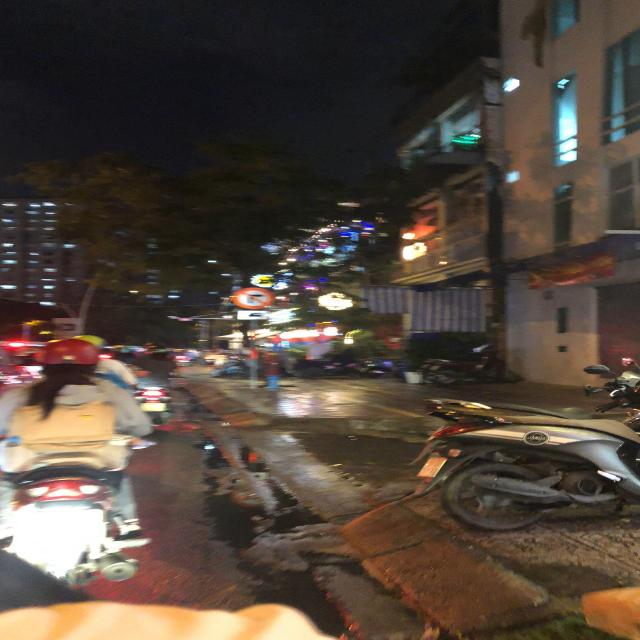Bien bao cam re phai: (228, 286, 276, 310)
